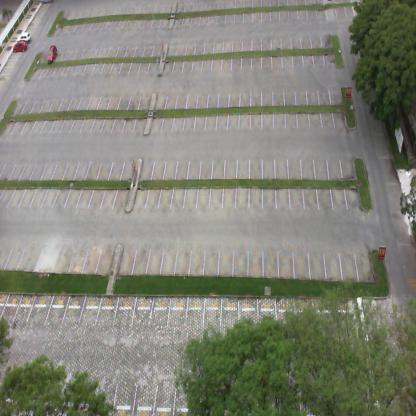car: (46, 45, 58, 66), (13, 40, 28, 52), (18, 31, 31, 44)
